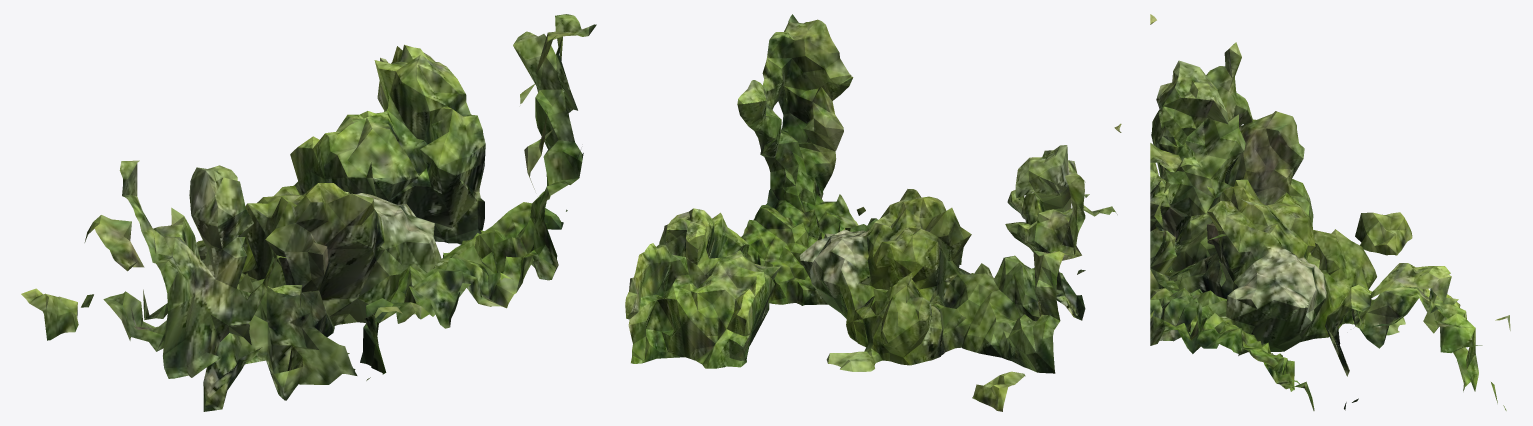
3 views of the same model, side by side, from view 1: azimuth 30°, elevation 25°; view 2: azimuth 150°, elevation 25°; view 3: azimuth 270°, elevation 25° (orthographic). The views are drawn at different scales.
Size of the model in its own units: 26.11 by 17.53 by 22.99.
Materials: 4 (4 with a texture image).
